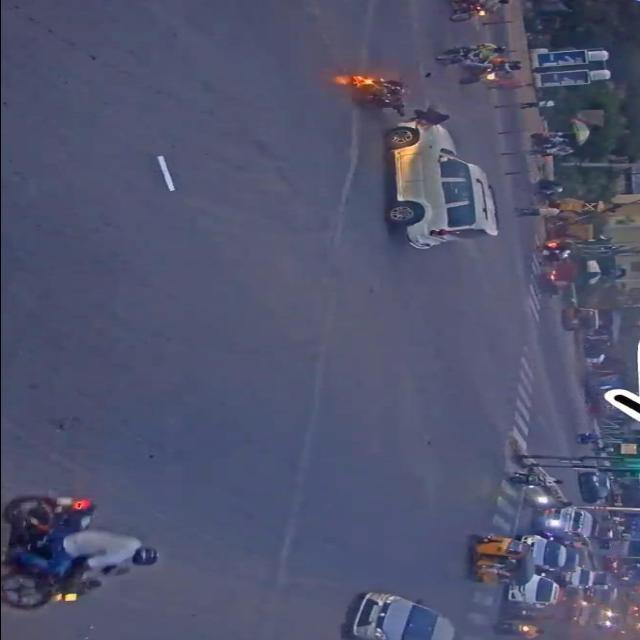accident: (330, 70, 510, 260)
non_accident: (456, 473, 592, 638), (430, 44, 530, 88), (421, 0, 523, 25)
